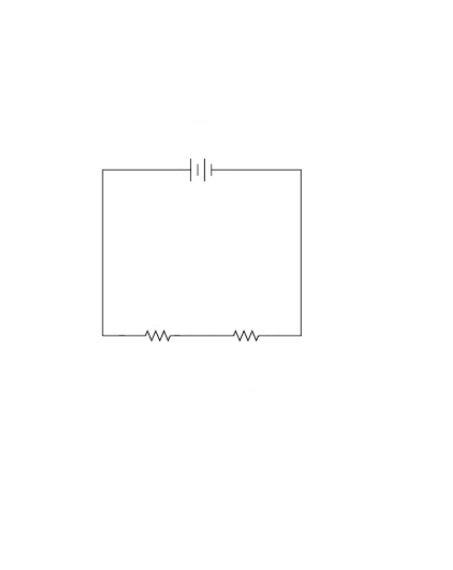resistor: (124, 313, 190, 354), (221, 311, 273, 350)
